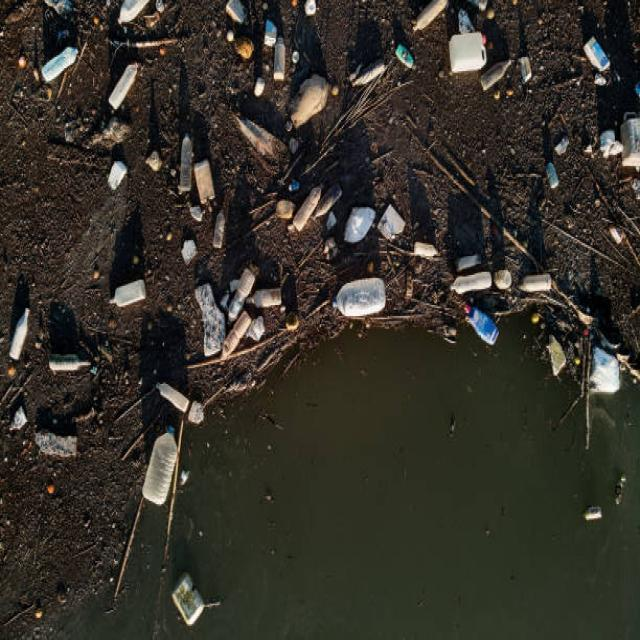garbage: (452, 247, 622, 411), (190, 268, 288, 359), (139, 416, 187, 517), (174, 134, 221, 212), (273, 185, 348, 232), (579, 468, 633, 533), (331, 271, 394, 325), (164, 571, 218, 627), (443, 34, 498, 82), (6, 290, 37, 372), (32, 42, 89, 85), (45, 346, 107, 383), (107, 62, 143, 113), (262, 17, 292, 76), (104, 276, 153, 308), (615, 113, 640, 172), (585, 38, 616, 85)
